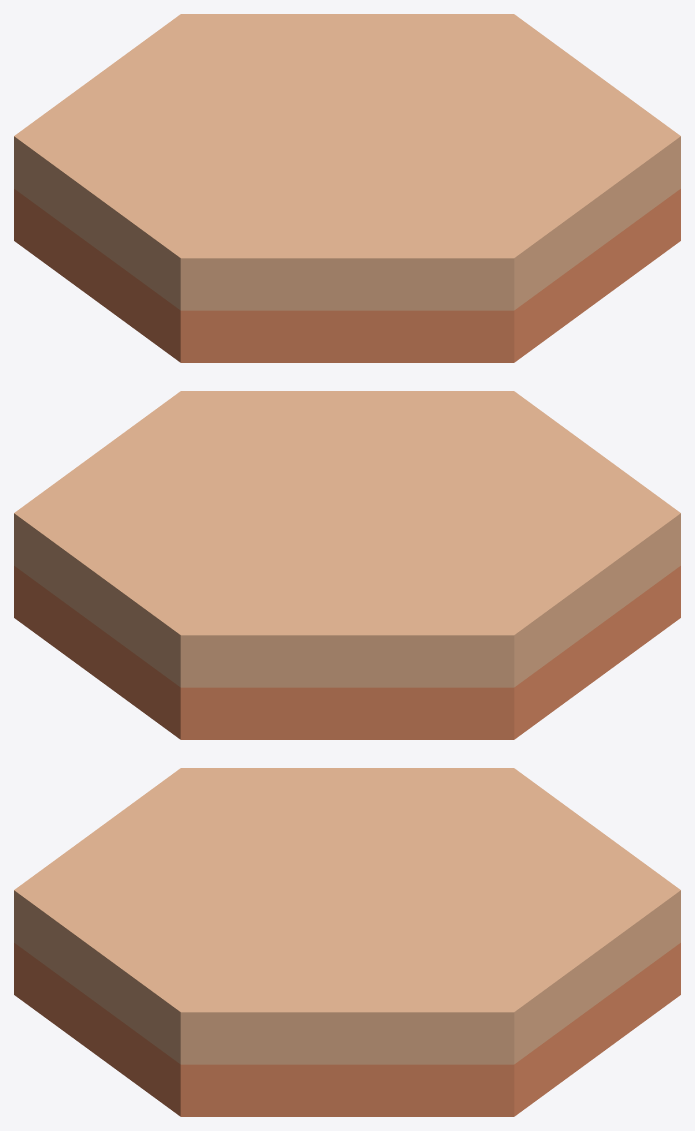
File: sand.glb
The picture shows the model from 3 angles, top to bottom: view 1: azimuth 30°, elevation 25°; view 2: azimuth 150°, elevation 25°; view 3: azimuth 270°, elevation 25°; orthographic projection.
Parts seen in each view (by area): view 1: sand; view 2: sand; view 3: sand.
Boxes of the visible parts, x1=… form: sand: x1=14, y1=14, x2=680, y2=362; sand: x1=14, y1=391, x2=680, y2=739; sand: x1=14, y1=768, x2=680, y2=1116.
Size of the model in its own units: 1 by 0.2 by 1.15.
Materials: 1 (1 with a texture image).
